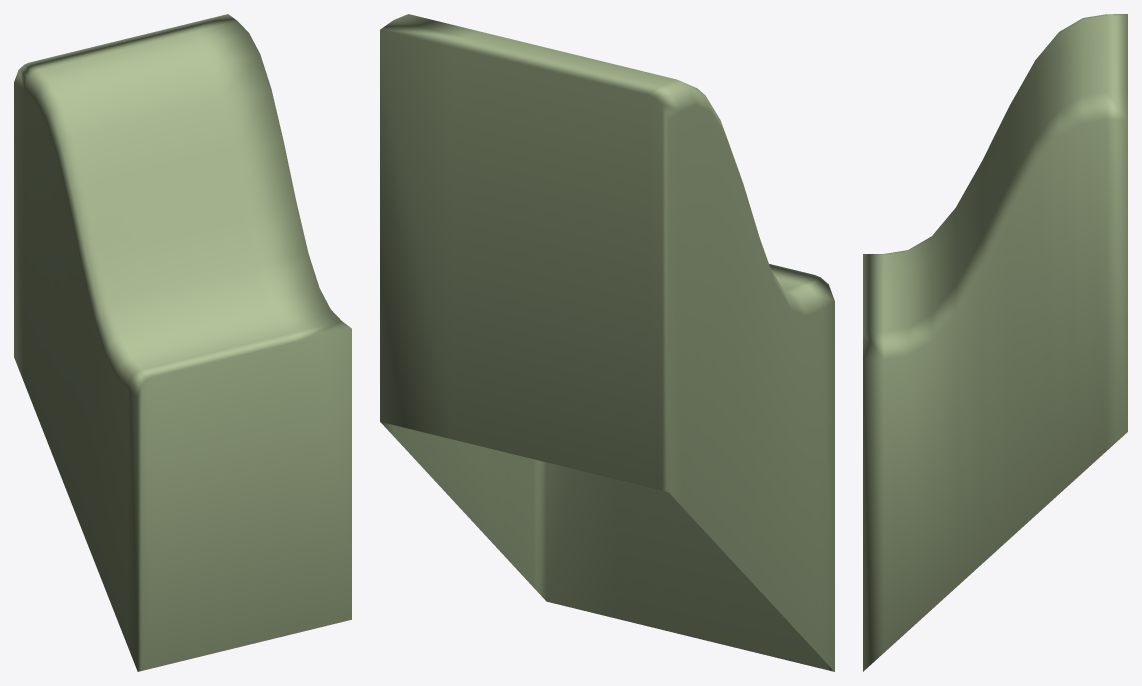
Rendered from ground-ramp-l-20.glb.
3 views of the same model, side by side, from view 1: azimuth 30°, elevation 25°; view 2: azimuth 150°, elevation 25°; view 3: azimuth 270°, elevation 25° (orthographic). The views are drawn at different scales.
Parts seen in each view (by area): view 1: ground-ramp-l-20; view 2: ground-ramp-l-20; view 3: ground-ramp-l-20.
Boxes of the visible parts, x1,y1,x2,y2 form: ground-ramp-l-20: (14, 14, 351, 671); ground-ramp-l-20: (380, 14, 834, 671); ground-ramp-l-20: (863, 14, 1127, 671).
Size of the model in its own units: 1 by 2.3 by 1.
